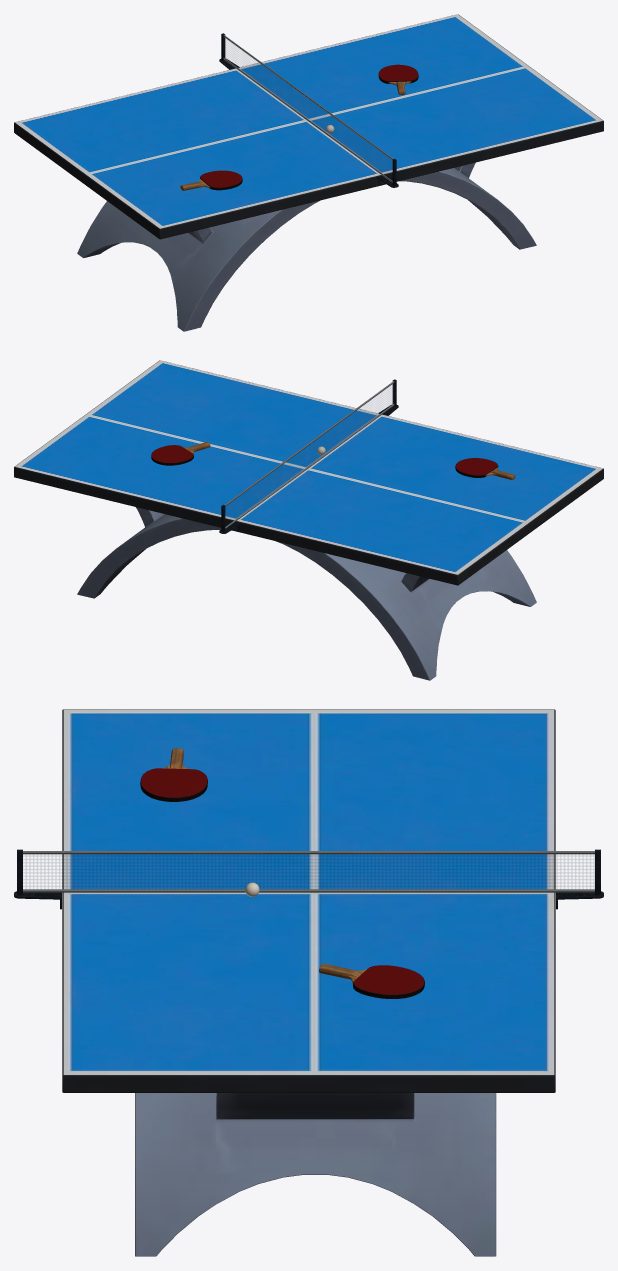
Rendered from pingpong.glb.
3 renders of one model, top to bottom at view 1: azimuth 30°, elevation 25°; view 2: azimuth 150°, elevation 25°; view 3: azimuth 270°, elevation 25°, orthographic. The views are drawn at different scales.
Parts seen in each view (by area): view 1: ping pong_ping pong_0; view 2: ping pong_ping pong_0; view 3: ping pong_ping pong_0, ping pong_pong red ALFA_0.
Part boxes in pixels (left/top/right/bottom): ping pong_ping pong_0: left=14, top=14, right=603, bottom=331; ping pong_ping pong_0: left=14, top=360, right=603, bottom=680; ping pong_ping pong_0: left=14, top=709, right=603, bottom=1256; ping pong_pong red ALFA_0: left=23, top=855, right=594, bottom=888.
Size of the model in its own units: 2.72 by 0.903 by 1.85.
2 materials, 2 textured.
